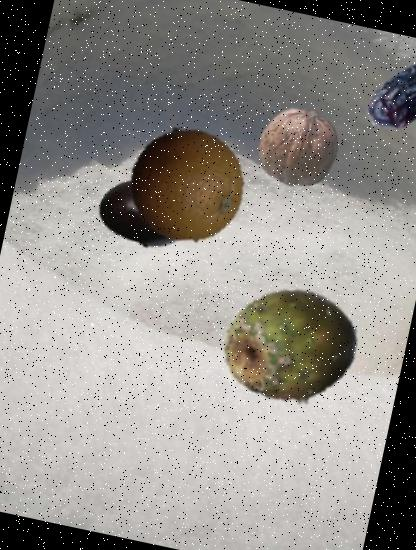Cactus: (210, 268, 372, 430)
Dates: (354, 47, 416, 148)
Eggplant: (88, 158, 202, 270)
Orange: (117, 116, 256, 255)
Walnut: (250, 100, 346, 196)
